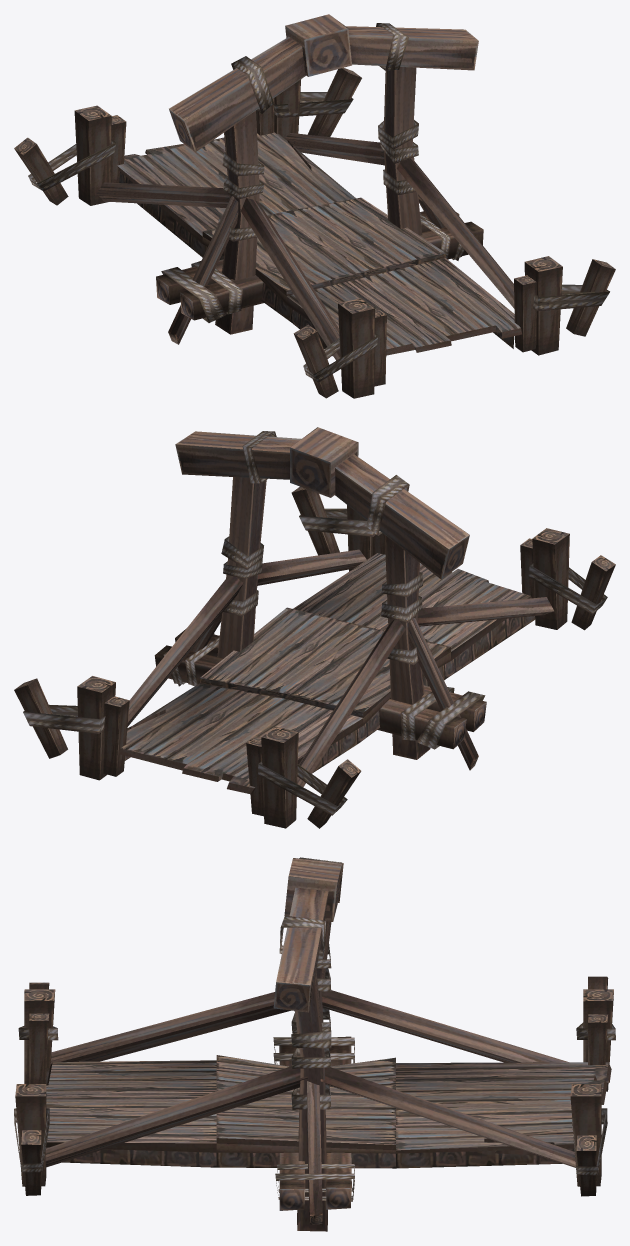
Rendered from mine_bridge_01.fbx.
The picture shows the model from 3 angles, top to bottom: view 1: azimuth 30°, elevation 25°; view 2: azimuth 150°, elevation 25°; view 3: azimuth 270°, elevation 25°; orthographic projection. The views are drawn at different scales.
Parts seen in each view (by area): view 1: mine_bridge_01-0; view 2: mine_bridge_01-0; view 3: mine_bridge_01-0.
Part boxes in pixels (x1,y1,x2,y2): mine_bridge_01-0: (14, 14, 615, 398); mine_bridge_01-0: (14, 427, 615, 828); mine_bridge_01-0: (14, 857, 615, 1231).
Bounding box in the file's own units: 9.59 × 8.04 × 14.11.
